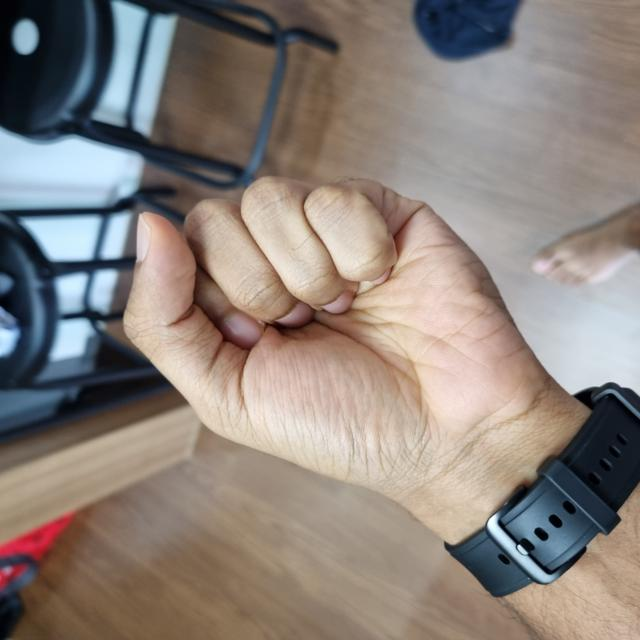Rock: (147, 127, 447, 547)
